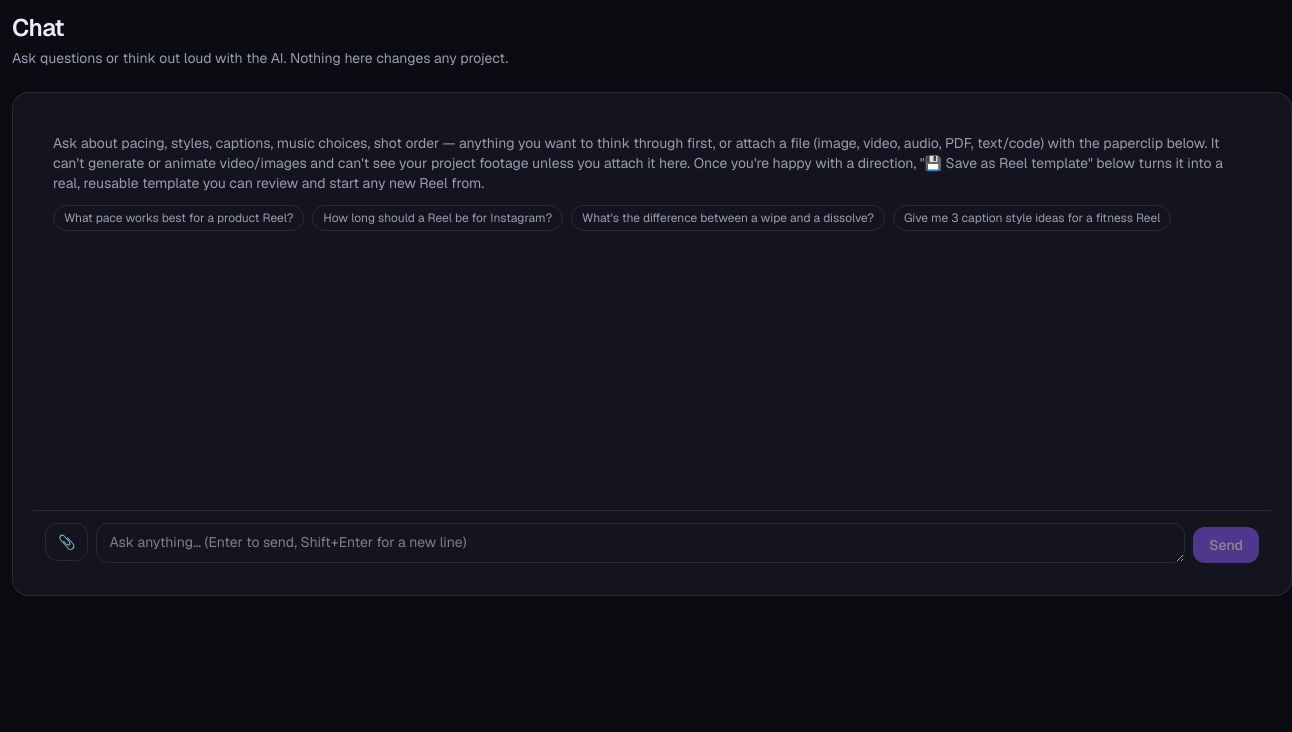
Test: Chat (free-form conversation with the AI, separate from any project) › Clear resets the conversation
Type "hello" into the text box named "Message".
click(641, 543); type("hello")  # box left=96, top=523, right=1185, bottom=563
Then press Enter
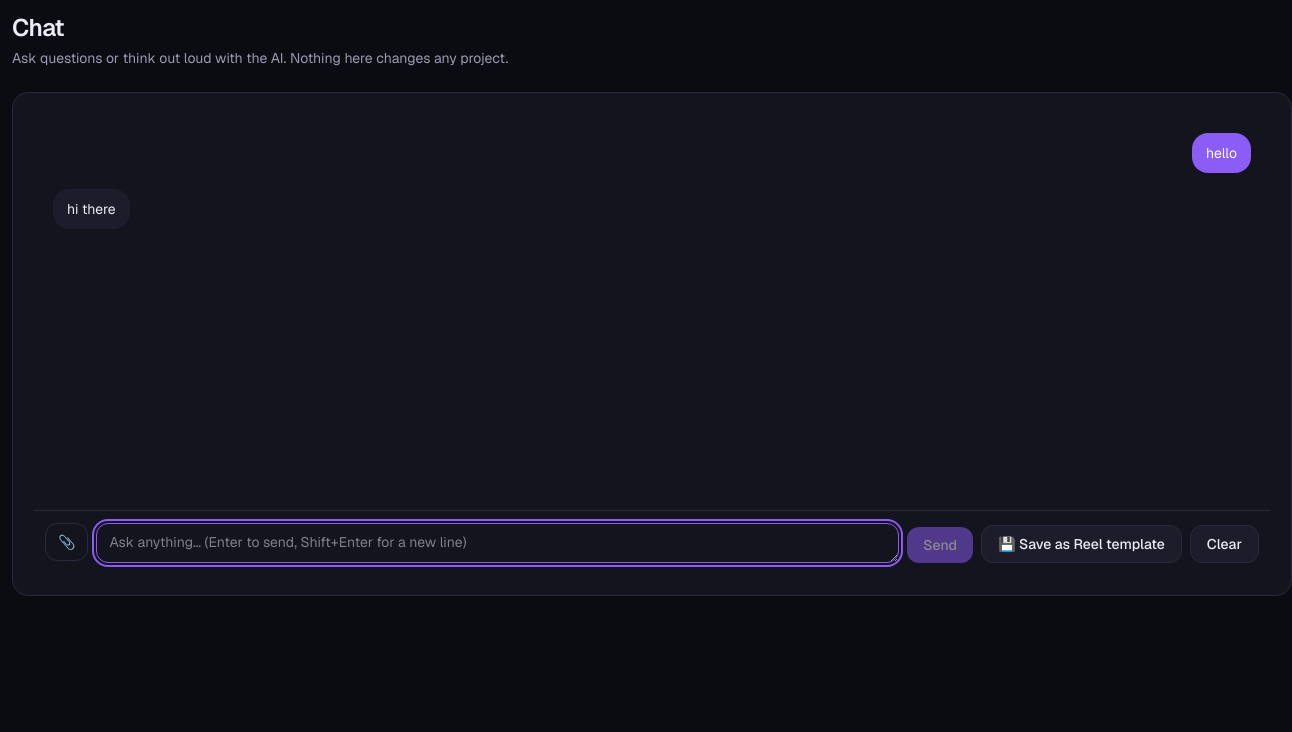
Expected: the text "hi there" is shown, left=67, top=199, right=116, bottom=219
Click the button "Clear".
click(1224, 544)  # box left=1190, top=525, right=1259, bottom=563
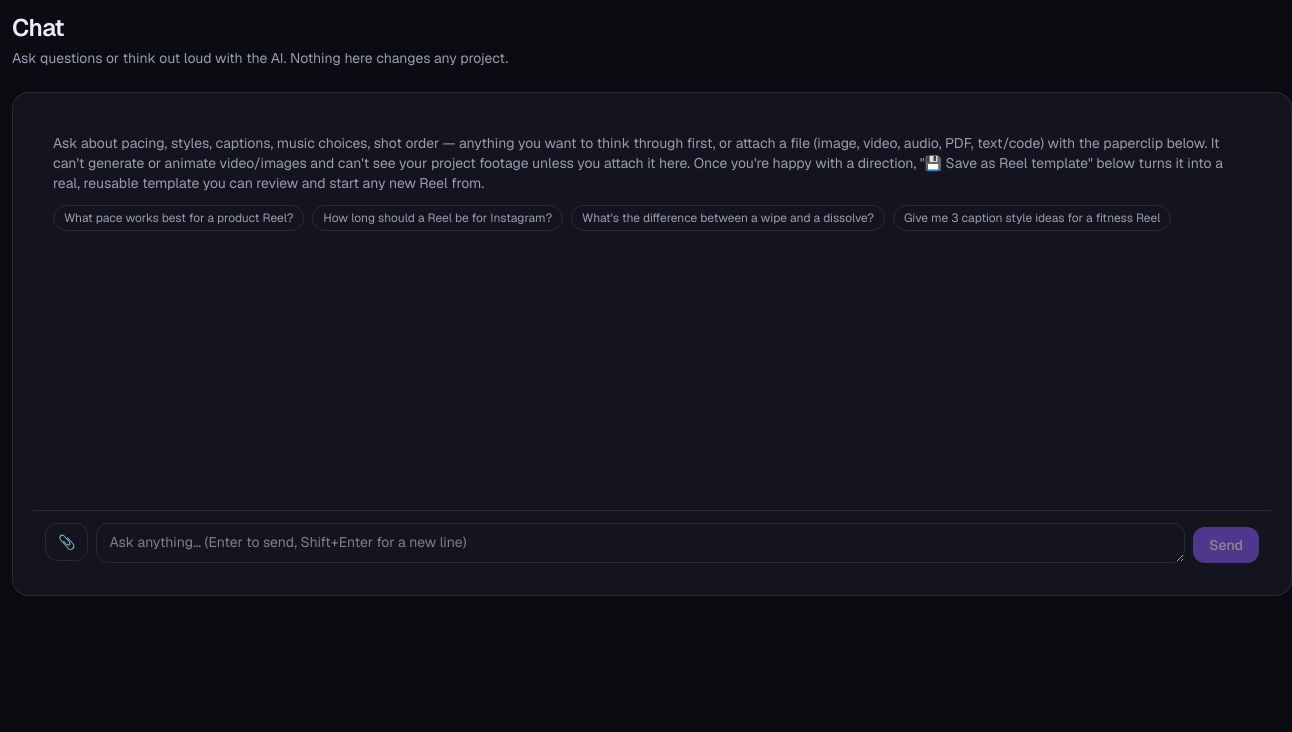
Expected: the text "hi there" is gone
Expected: the text "hello" is gone
Expected: the button "What pace works best for a product Reel?" is shown, left=53, top=205, right=304, bottom=231
